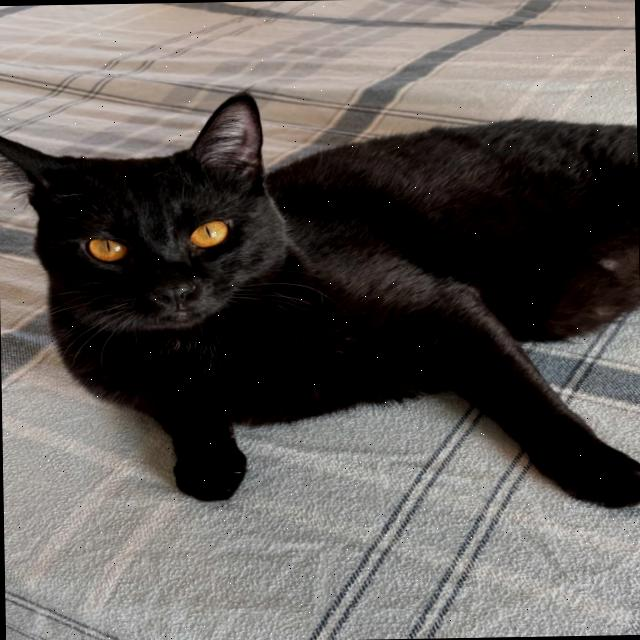bombay_cat: (0, 79, 301, 355)
